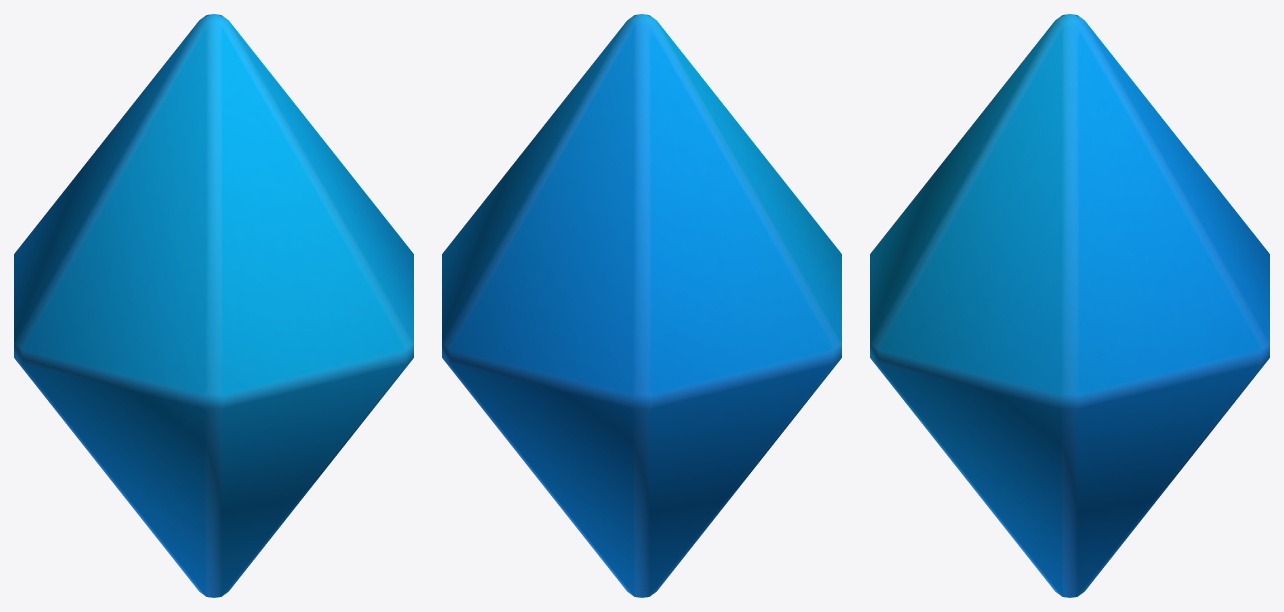
File: Gem01_Blue.FBX
The picture shows the model from 3 angles, left to right: view 1: azimuth 30°, elevation 25°; view 2: azimuth 150°, elevation 25°; view 3: azimuth 270°, elevation 25°; orthographic projection.
Parts seen in each view (by area): view 1: Gem01_Blue; view 2: Gem01_Blue; view 3: Gem01_Blue.
Boxes of the visible parts, x1,y1,x2,y2 form: Gem01_Blue: (14,14,413,597); Gem01_Blue: (442,14,841,597); Gem01_Blue: (870,14,1269,597).
Bounding box in the file's own units: 51.18 × 73.01 × 45.29.
Materials: 1 (1 with a texture image).
